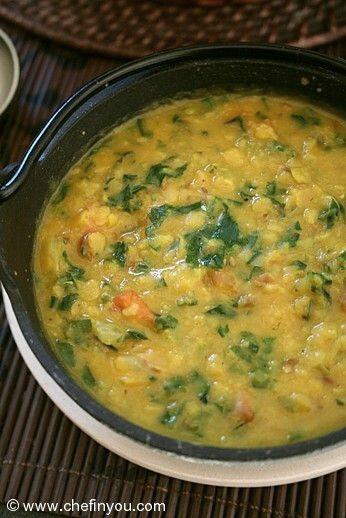daal: (38, 100, 346, 483)
